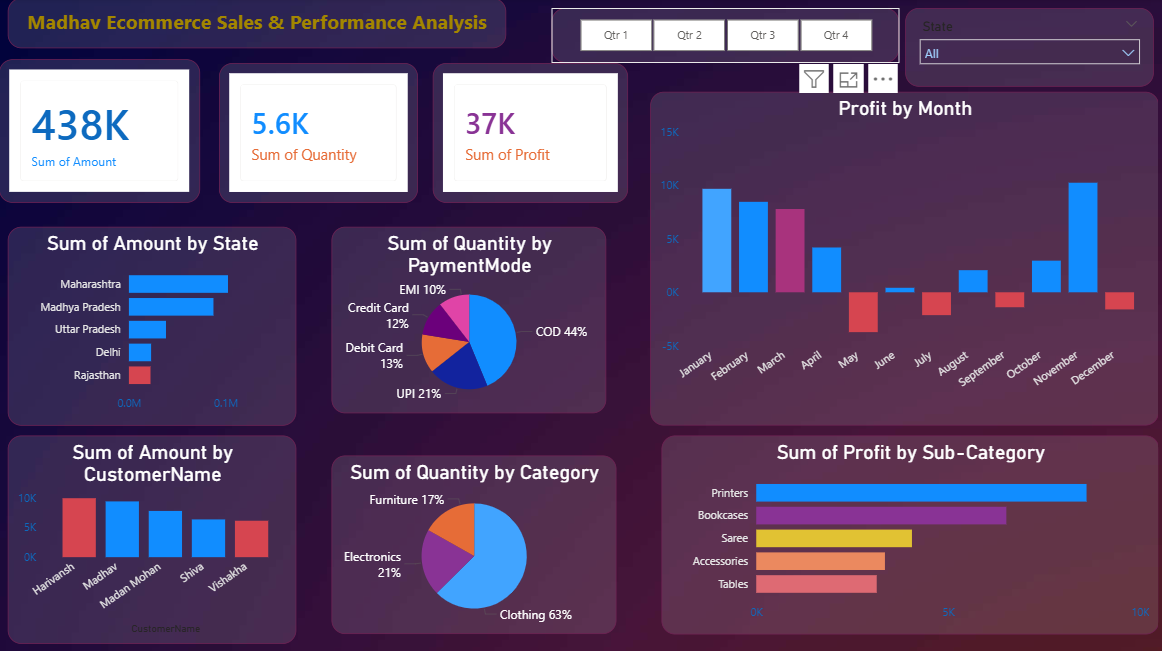

What the dashboard file says about the page in this screenshot:
{"tool":"powerbi","page":{"name":"Page 1","canvas":[1280,720],"ordinal":0},"visuals":[{"type":"textbox","box":[9.6,0,547.5,54.9],"z":0},{"type":"columnChart","title":"Profit by Month","fields":{"Category":["Orders (1).Order Date.Variation.Date Hierarchy.Month"],"Y":["Sum(Details.Profit)"]},"box":[714.9,102.9,558.5,366.4],"z":1},{"type":"barChart","fields":{"Category":["Details.Sub-Category"],"Y":["Sum(Details.Profit)"]},"box":[727.3,480.3,546.1,218.2],"z":2},{"type":"pieChart","fields":{"Category":["Details.Category"],"Y":["Sum(Details.Quantity)"]},"box":[365,502.2,312.9,196.2],"z":3},{"type":"pieChart","fields":{"Y":["Sum(Details.Quantity)"],"Category":["Details.PaymentMode"]},"box":[365,251.1,301.9,204.5],"z":4},{"type":"cardVisual","fields":{"Data":["Sum(Details.Amount)"]},"box":[0,67.2,220.9,157.8],"z":5},{"type":"cardVisual","fields":{"Data":["Sum(Details.Quantity)"]},"box":[241.5,71.4,218.2,153.7],"z":6},{"type":"cardVisual","fields":{"Data":["Sum(Details.Profit)"]},"box":[476.2,71.4,214.1,153.7],"z":7},{"type":"barChart","fields":{"Category":["Orders (1).State"],"Y":["Sum(Details.Amount)"]},"box":[9.6,251.1,317,218.2],"z":8},{"type":"columnChart","fields":{"Category":["Orders (1).CustomerName"],"Y":["Sum(Details.Amount)"]},"box":[9.6,480.3,317,229.2],"z":9},{"type":"slicer","fields":{"Values":["Orders (1).State"]},"box":[994.9,11,273.1,86.4],"z":10},{"type":"slicer","fields":{"Values":["Orders (1).Order Date.Variation.Date Hierarchy.Quarter"]},"box":[606.5,11,381.5,60.4],"z":11}]}

Visuals, with their boxes in screenshot pixels (x1, y1, x2, y2), scaled from the page's 1280x720 canvas onto the 1162x651 screenshot:
textbox: detection(9, 0, 506, 50)
"Profit by Month" columnChart: detection(649, 93, 1156, 424)
barChart - Details.Sub-Category x Sum(Details.Profit): detection(660, 434, 1156, 632)
pieChart - Details.Category x Sum(Details.Quantity): detection(331, 454, 615, 631)
pieChart - Sum(Details.Quantity) x Details.PaymentMode: detection(331, 227, 605, 412)
cardVisual - Sum(Details.Amount): detection(0, 61, 201, 203)
cardVisual - Sum(Details.Quantity): detection(219, 65, 417, 204)
cardVisual - Sum(Details.Profit): detection(432, 65, 627, 204)
barChart - Orders (1).State x Sum(Details.Amount): detection(9, 227, 296, 424)
columnChart - Orders (1).CustomerName x Sum(Details.Amount): detection(9, 434, 296, 642)
slicer - Orders (1).State: detection(903, 10, 1151, 88)
slicer - Orders (1).Order Date.Variation.Date Hierarchy.Quarter: detection(551, 10, 897, 65)
